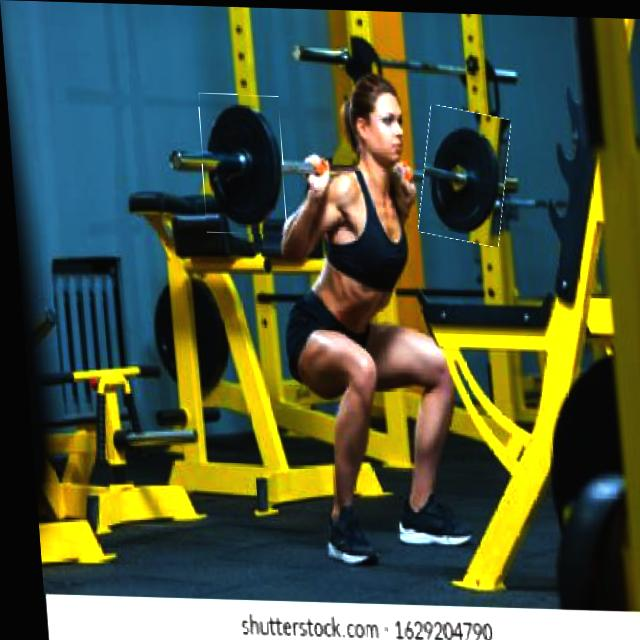barbell: (414, 106, 512, 243), (197, 93, 286, 234)
